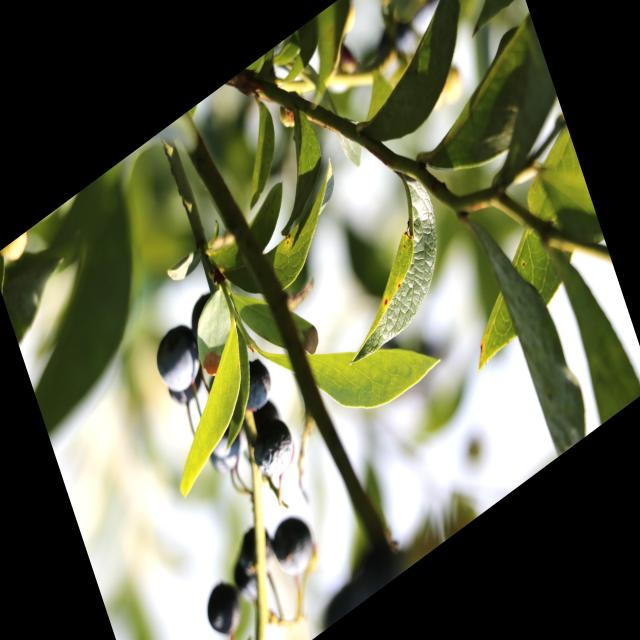blueberry: (150, 316, 206, 402), (271, 511, 319, 583), (201, 570, 247, 640), (252, 417, 298, 485), (234, 353, 277, 416), (204, 405, 245, 463), (231, 548, 270, 608), (240, 524, 276, 580)
